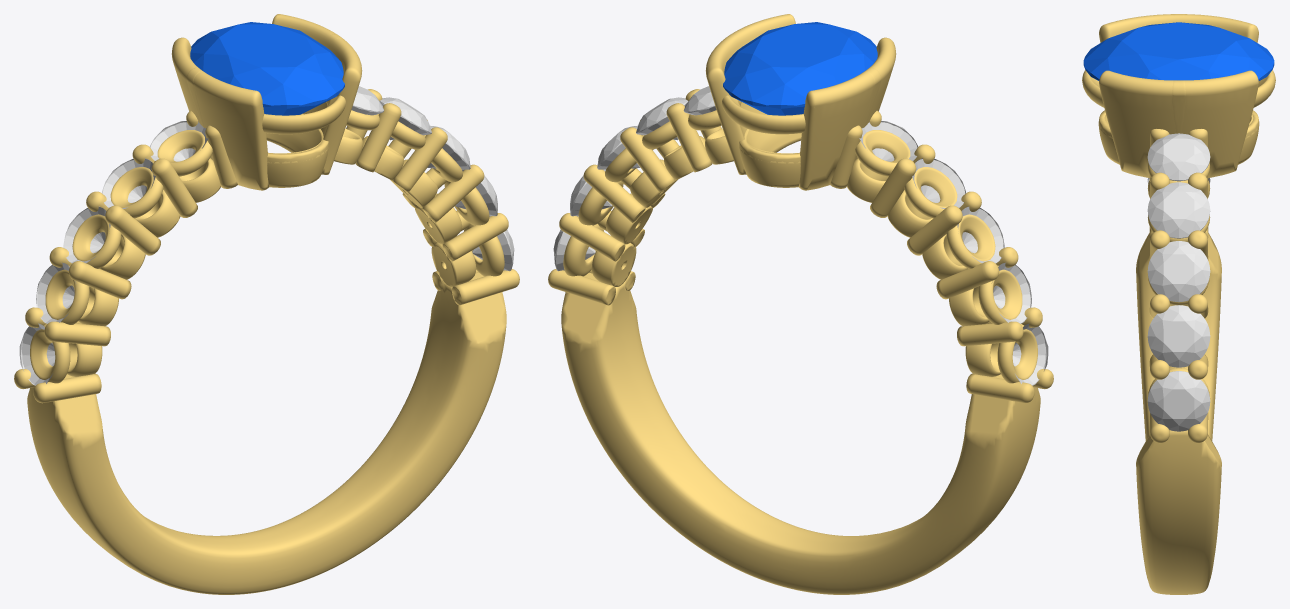
File: bluesapphire-oval-yellowgold-halfmoonbezel-straighttaperedband-11stone.glb
3 renders of one model, left to right at view 1: azimuth 30°, elevation 25°; view 2: azimuth 150°, elevation 25°; view 3: azimuth 270°, elevation 25°, orthographic.
Visible parts, largest first — view 1: metal, stone.003, side.032, side.033, side.031, side.034, side.030, side.038; view 2: metal, stone.003, side.032, side.033, side.031, side.034, side.030, side.038; view 3: metal, stone.003, side.036, side.037, side.035, side.038, side.039.
Boxes of the visible parts, box(x1,y1,x2,y2) form: metal: box(14, 14, 519, 594); stone.003: box(190, 22, 344, 115); side.032: box(63, 206, 110, 263); side.033: box(102, 158, 155, 208); side.031: box(36, 262, 76, 323); side.034: box(150, 121, 208, 161); side.030: box(19, 323, 55, 385); side.038: box(379, 97, 431, 140); metal: box(548, 14, 1053, 594); stone.003: box(723, 22, 877, 115); side.032: box(957, 206, 1004, 263); side.033: box(912, 158, 965, 208); side.031: box(991, 262, 1031, 323); side.034: box(859, 121, 917, 161); side.030: box(1012, 323, 1048, 385); side.038: box(636, 97, 688, 140); metal: box(1082, 14, 1275, 594); stone.003: box(1083, 22, 1274, 80); side.036: box(1147, 305, 1210, 367); side.037: box(1147, 241, 1210, 302); side.035: box(1147, 371, 1210, 431); side.038: box(1147, 182, 1210, 238); side.039: box(1147, 133, 1210, 181).
Bounding box in the file's own units: 22.01 × 23.41 × 7.75.
